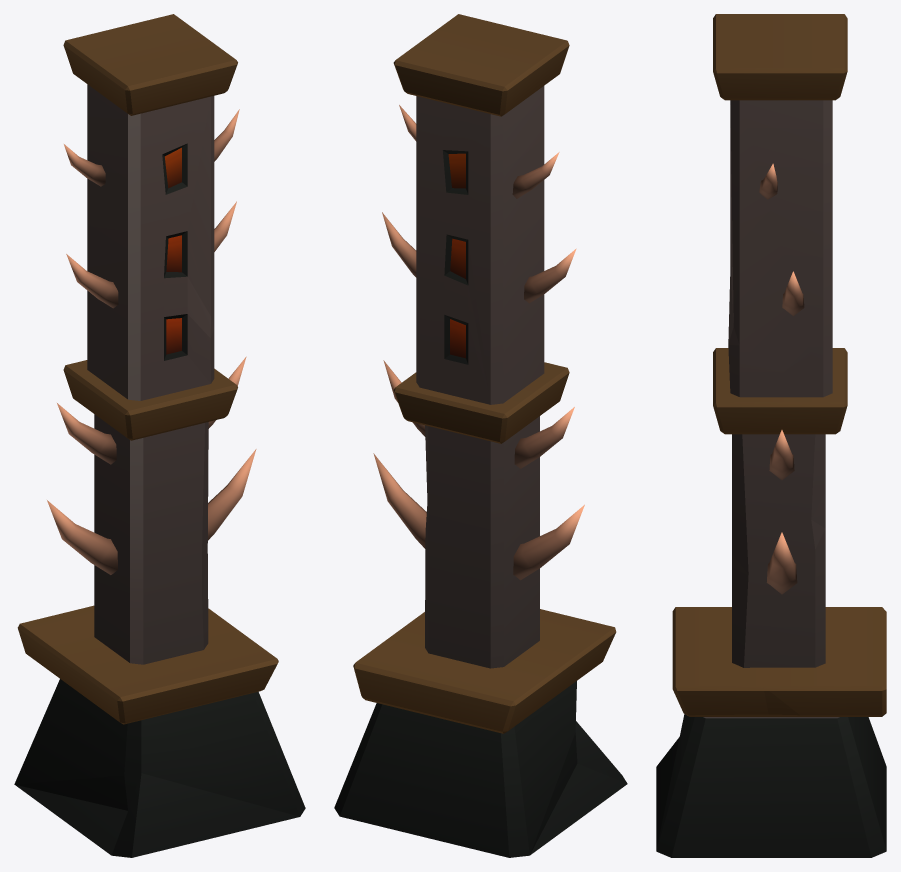
The model's file is Prop_pillar_02.fbx.
The picture shows the model from 3 angles, left to right: view 1: azimuth 30°, elevation 25°; view 2: azimuth 150°, elevation 25°; view 3: azimuth 270°, elevation 25°; orthographic projection. The views are drawn at different scales.
Parts seen in each view (by area): view 1: Pillar_02; view 2: Pillar_02; view 3: Pillar_02.
Part boxes in pixels (x1=…): Pillar_02: x1=14, y1=14, x2=305, y2=857; Pillar_02: x1=334, y1=14, x2=627, y2=857; Pillar_02: x1=656, y1=14, x2=886, y2=857.
Size of the model in its own units: 184 by 623 by 170.
